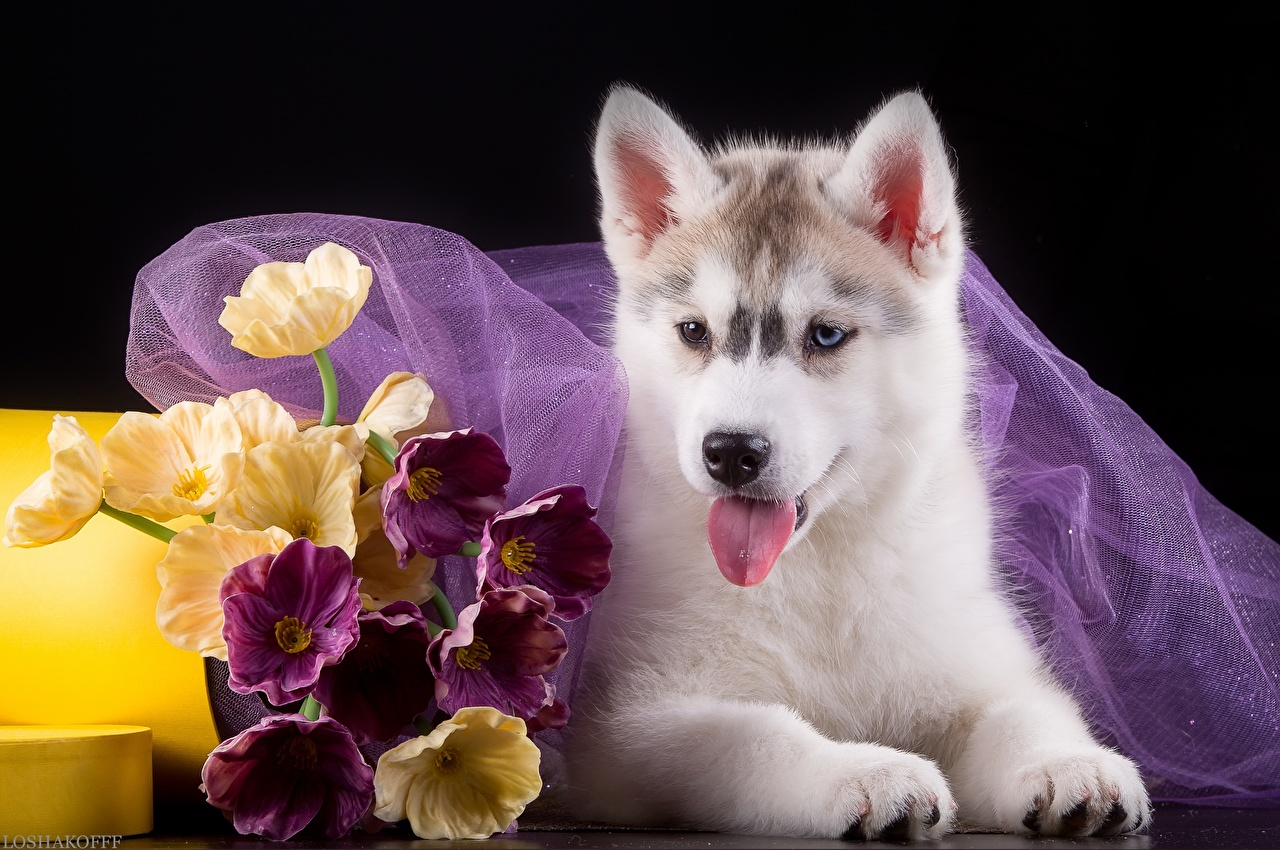husky: (555, 50, 1033, 585)
